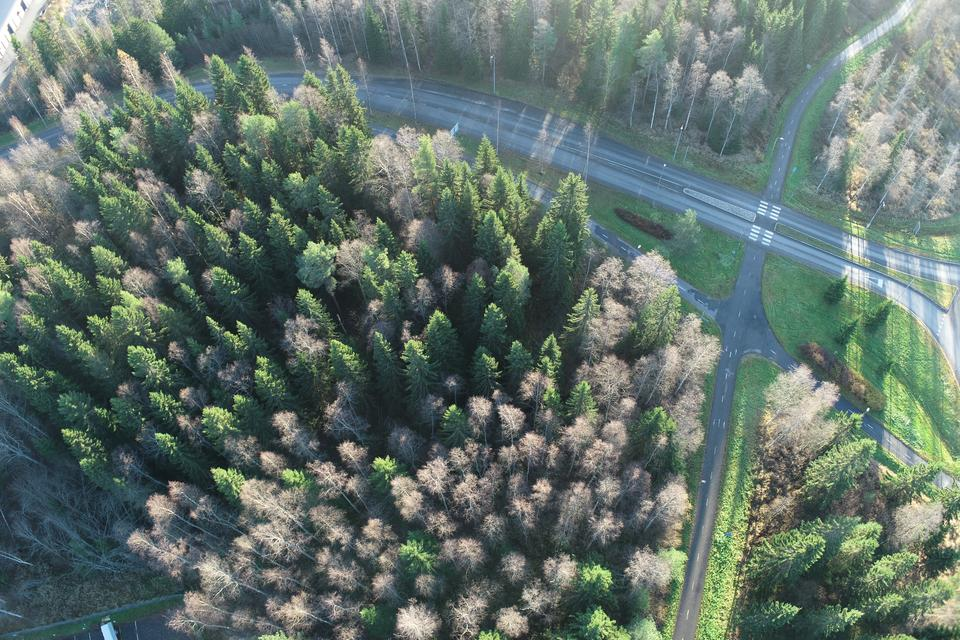intersection: (720, 169, 811, 284)
roundabout: (908, 211, 960, 411)
